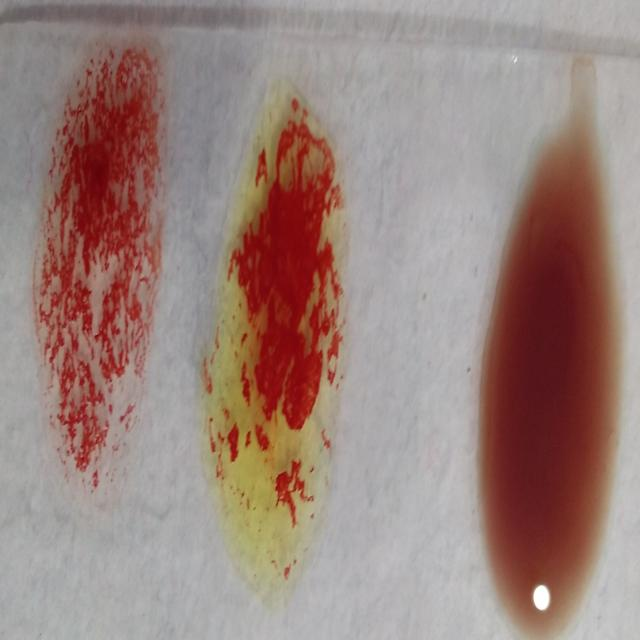B: (198, 85, 351, 598)
D: (35, 36, 161, 506)
